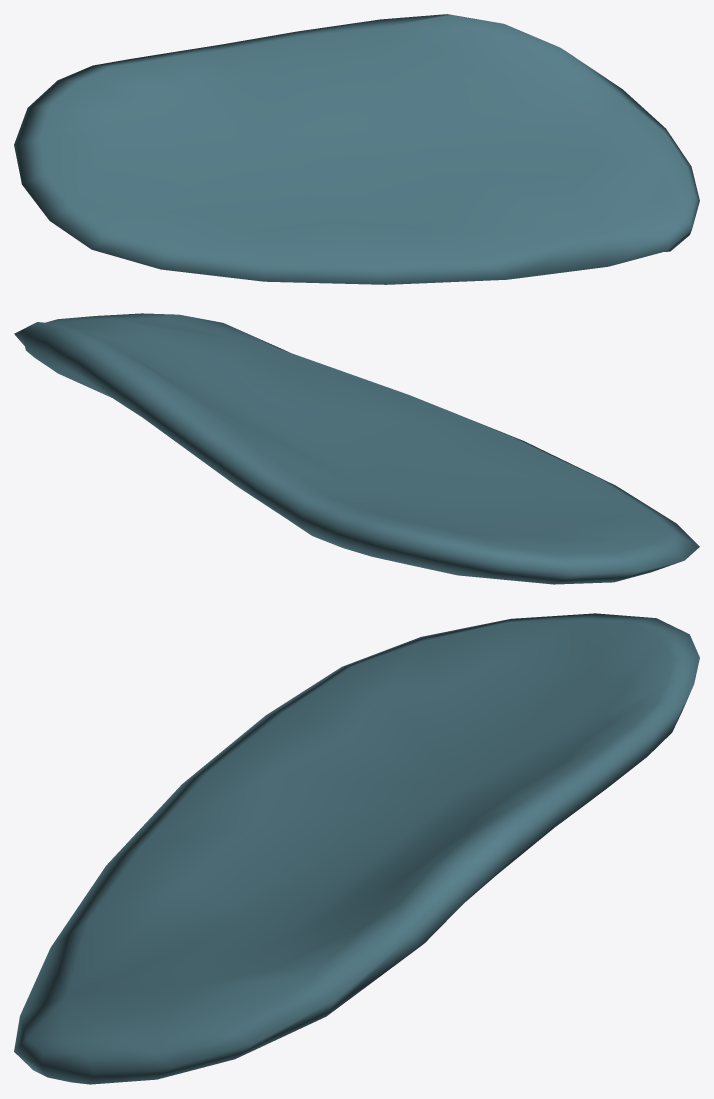
The model's file is Flexor_digitorum_longus_1st_distal_phalanx_right.glb.
3 renders of one model, top to bottom at view 1: azimuth 30°, elevation 25°; view 2: azimuth 150°, elevation 25°; view 3: azimuth 270°, elevation 25°, orthographic. The views are drawn at different scales.
Parts seen in each view (by area): view 1: Flexor_digitorum_longus_on_1st_distal_phalanx.r_Generated_Me; view 2: Flexor_digitorum_longus_on_1st_distal_phalanx.r_Generated_Me; view 3: Flexor_digitorum_longus_on_1st_distal_phalanx.r_Generated_Me.
Boxes of the visible parts, bbox=[...] form: Flexor_digitorum_longus_on_1st_distal_phalanx.r_Generated_Me: bbox=[14, 14, 699, 284]; Flexor_digitorum_longus_on_1st_distal_phalanx.r_Generated_Me: bbox=[14, 313, 699, 584]; Flexor_digitorum_longus_on_1st_distal_phalanx.r_Generated_Me: bbox=[14, 613, 699, 1084].
Size of the model in its own units: 0.00925 by 0.00218 by 0.00664.
